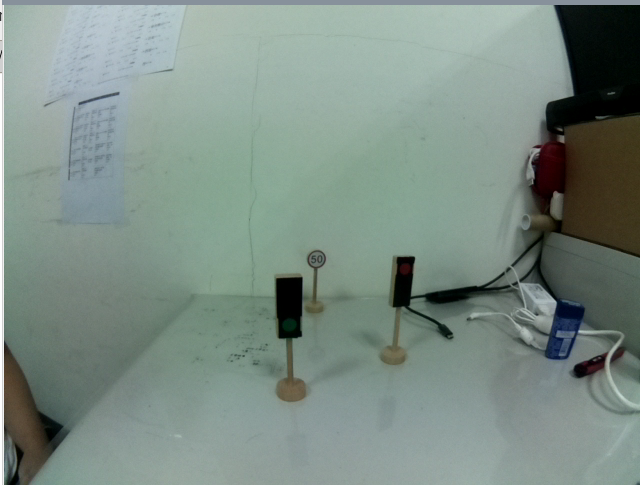Green: (270, 269, 307, 343)
Red: (388, 251, 419, 308)
Speed50: (306, 247, 327, 273)
